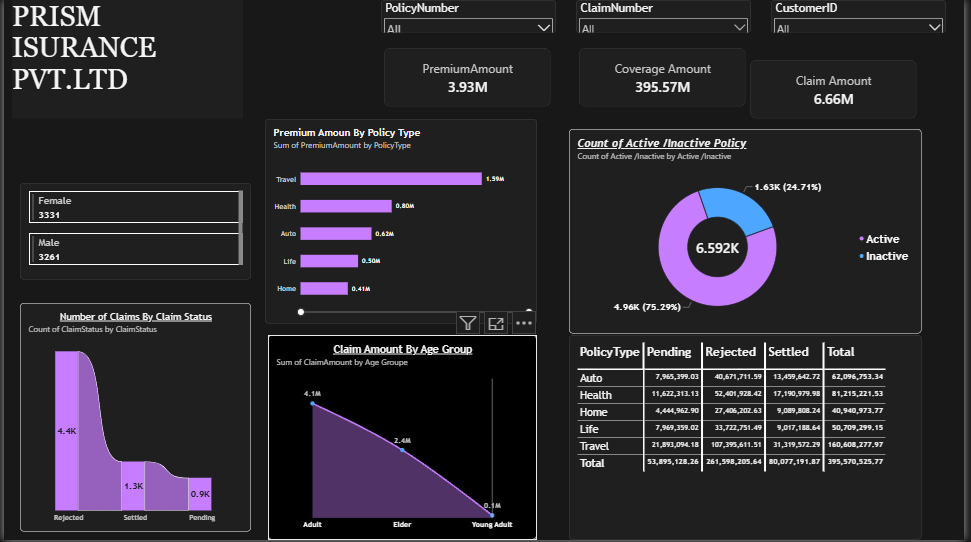

This screenshot's page, from the dashboard's own definition file:
{"tool":"powerbi","page":{"name":"Page 1","canvas":[1920,1080],"ordinal":0},"visuals":[{"type":"slicer","fields":{"Values":["InsuranceData.PolicyNumber"]},"box":[753.3,0,350,66],"z":0},{"type":"slicer","fields":{"Values":["InsuranceData.ClaimNumber"]},"box":[1143.7,0,350,66],"z":1000},{"type":"slicer","fields":{"Values":["InsuranceData.CustomerID"]},"box":[1534.2,0,350,66],"z":2000},{"type":"textbox","box":[16.1,0,461.6,236.6],"z":3000},{"type":"cardVisual","fields":{"Data":["Sum(InsuranceData.PremiumAmount)"]},"box":[760.2,96.5,333,117.1],"z":4000},{"type":"cardVisual","fields":{"Data":["Sum(InsuranceData.CoverageAmount)"]},"box":[1150.6,96.5,333,117.1],"z":5000},{"type":"cardVisual","fields":{"Data":["Sum(InsuranceData.ClaimAmount)"]},"box":[1492.8,119.4,333,117.1],"z":6000},{"type":"multiRowCard","fields":{"Values":["InsuranceData.Gender","CountNonNull(InsuranceData.Gender)"]},"box":[32.2,365.2,461.6,192.9],"z":7000},{"type":"ribbonChart","title":"Number of  Claims By Claim Status","fields":{"Category":["InsuranceData.ClaimStatus"],"Y":["CountNonNull(InsuranceData.ClaimStatus)"]},"box":[32.2,606.3,461.6,457],"z":8000},{"type":"barChart","title":" Premium Amoun By Policy Type","fields":{"Category":["InsuranceData.PolicyType"],"Y":["Sum(InsuranceData.PremiumAmount)"]},"box":[521.3,238.9,544.3,408.8],"z":9000},{"type":"lineChart","title":"Claim Amount By Age Group","fields":{"Category":["InsuranceData.Age Groupe"],"Y":["Sum(InsuranceData.ClaimAmount)"]},"box":[528.2,670.6,537.4,408.8],"z":9001},{"type":"donutChart","title":"Count of Active /Inactive Policy","fields":{"Category":["InsuranceData.Active /Inactive"],"Y":["CountNonNull(InsuranceData.Active /Inactive)"]},"box":[1130,257.2,705.1,408.8],"z":9002},{"type":"pivotTable","fields":{"Columns":["InsuranceData.ClaimStatus"],"Rows":["InsuranceData.PolicyType"],"Values":["Sum(InsuranceData.CoverageAmount)"]},"box":[1130,670.6,705,409],"z":9003}]}

Visuals, with their boxes in screenshot pixels (x1, y1, x2, y2), scaled from the page's 1920x1080 canvas onto the 971x542 screenshot:
slicer - InsuranceData.PolicyNumber: [x1=381, y1=0, x2=558, y2=33]
slicer - InsuranceData.ClaimNumber: [x1=578, y1=0, x2=755, y2=33]
slicer - InsuranceData.CustomerID: [x1=776, y1=0, x2=953, y2=33]
textbox: [x1=8, y1=0, x2=242, y2=119]
cardVisual - Sum(InsuranceData.PremiumAmount): [x1=384, y1=48, x2=553, y2=107]
cardVisual - Sum(InsuranceData.CoverageAmount): [x1=582, y1=48, x2=750, y2=107]
cardVisual - Sum(InsuranceData.ClaimAmount): [x1=755, y1=60, x2=923, y2=119]
multiRowCard - InsuranceData.Gender x CountNonNull(InsuranceData.Gender): [x1=16, y1=183, x2=250, y2=280]
"Number of  Claims By Claim Status" ribbonChart: [x1=16, y1=304, x2=250, y2=534]
" Premium Amoun By Policy Type" barChart: [x1=264, y1=120, x2=539, y2=325]
"Claim Amount By Age Group" lineChart: [x1=267, y1=337, x2=539, y2=541]
"Count of Active /Inactive Policy" donutChart: [x1=571, y1=129, x2=928, y2=334]
pivotTable - InsuranceData.ClaimStatus x InsuranceData.PolicyType: [x1=571, y1=337, x2=928, y2=541]
